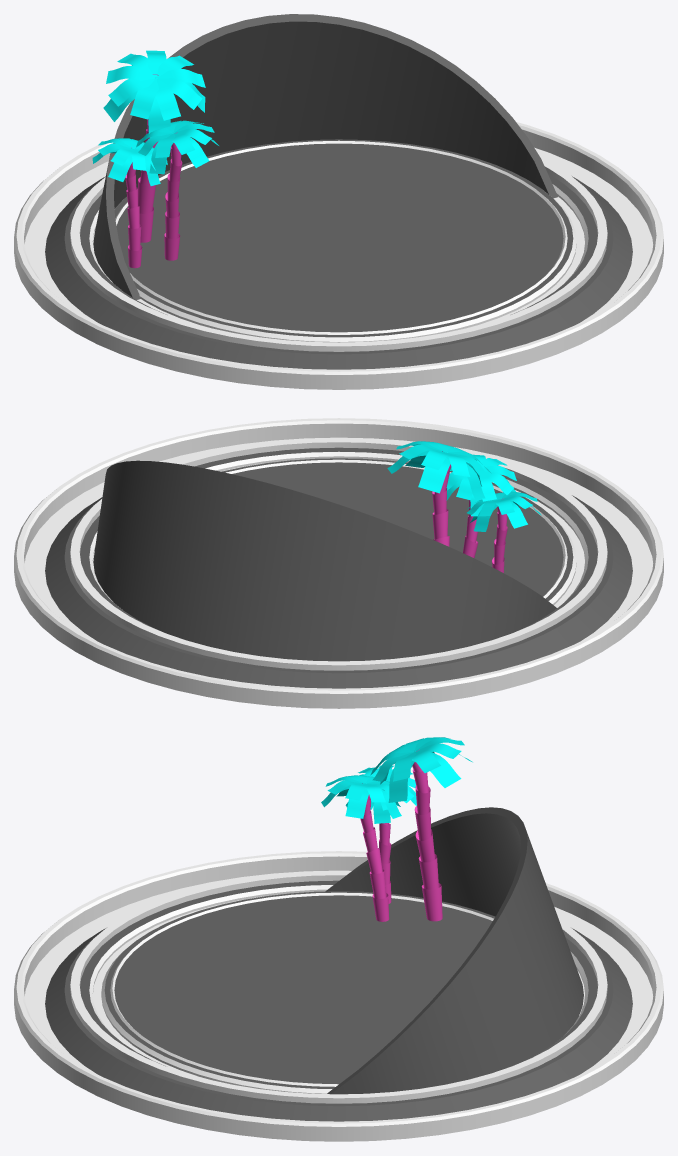
Rendered from Plinth.fbx.
The picture shows the model from 3 angles, top to bottom: view 1: azimuth 30°, elevation 25°; view 2: azimuth 150°, elevation 25°; view 3: azimuth 270°, elevation 25°; orthographic projection.
Parts seen in each view (by area): view 1: Plinth; view 2: Plinth; view 3: Plinth.
Part boxes in pixels (x1,y1,x2,y2): Plinth: [14, 14, 663, 389]; Plinth: [14, 418, 663, 708]; Plinth: [14, 737, 663, 1141].
Size of the model in its own units: 11.23 by 3.69 by 11.23.
